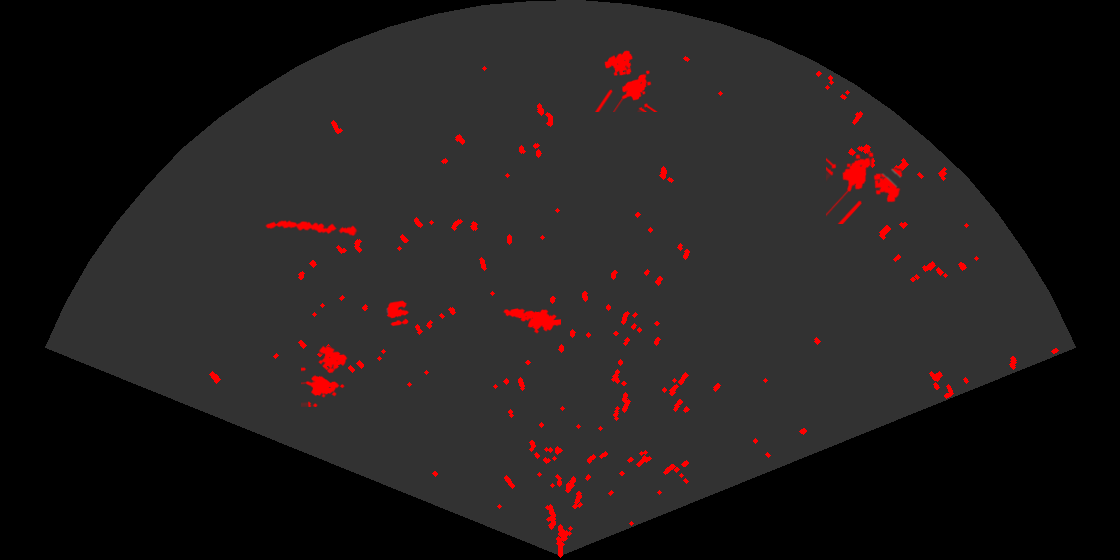ball: (385, 299, 410, 328)
cage: (826, 151, 904, 224), (593, 49, 659, 112), (301, 344, 349, 407)
chain: (263, 219, 359, 237)
frogman: (502, 307, 561, 335)
